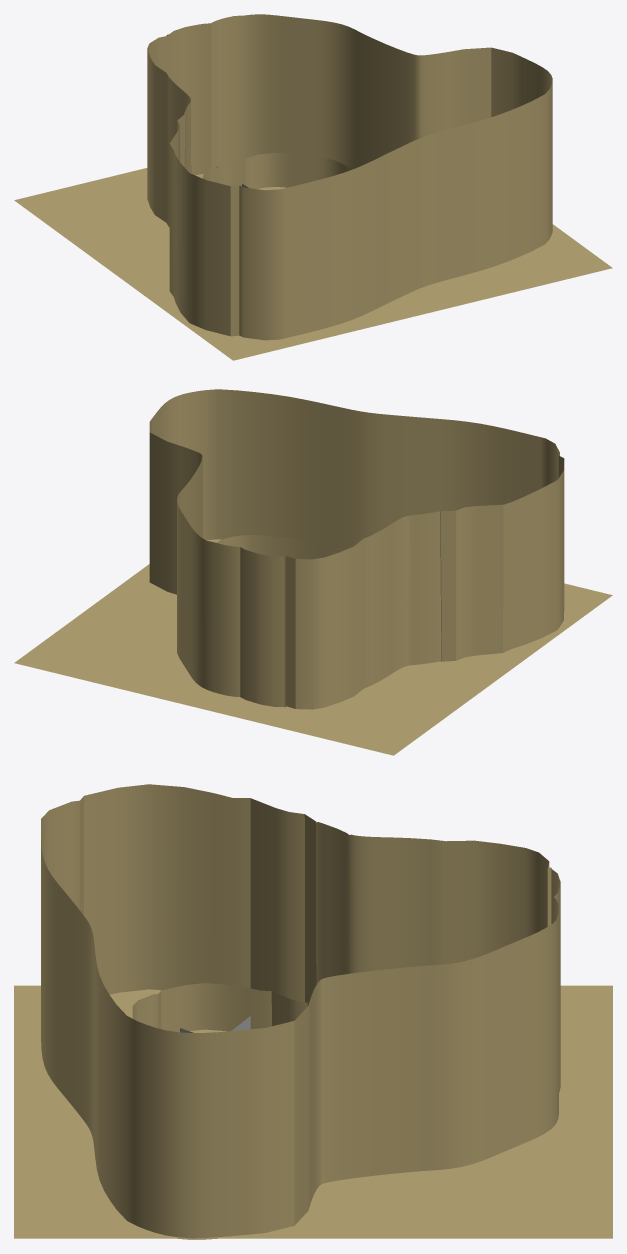
Rendered from Sertão v2.fbx.
3 renders of one model, top to bottom at view 1: azimuth 30°, elevation 25°; view 2: azimuth 150°, elevation 25°; view 3: azimuth 270°, elevation 25°, orthographic. The views are drawn at different scales.
Visible parts, largest first — view 1: BackDrop, Fundo2, Parede_Invisivel; view 2: BackDrop, Fundo2, Parede_Invisivel; view 3: BackDrop, Fundo2, Parede_Invisivel.
Part boxes in pixels (x1,y1,x2,y2): BackDrop: (147, 14, 552, 340); Fundo2: (14, 168, 612, 360); Parede_Invisivel: (203, 153, 352, 188); BackDrop: (149, 389, 564, 709); Fundo2: (14, 539, 612, 755); Parede_Invisivel: (217, 534, 345, 559); BackDrop: (41, 784, 560, 1239); Fundo2: (14, 985, 612, 1238); Parede_Invisivel: (132, 983, 308, 1032).
Bounding box in the file's own units: 50 × 19.52 × 50.
